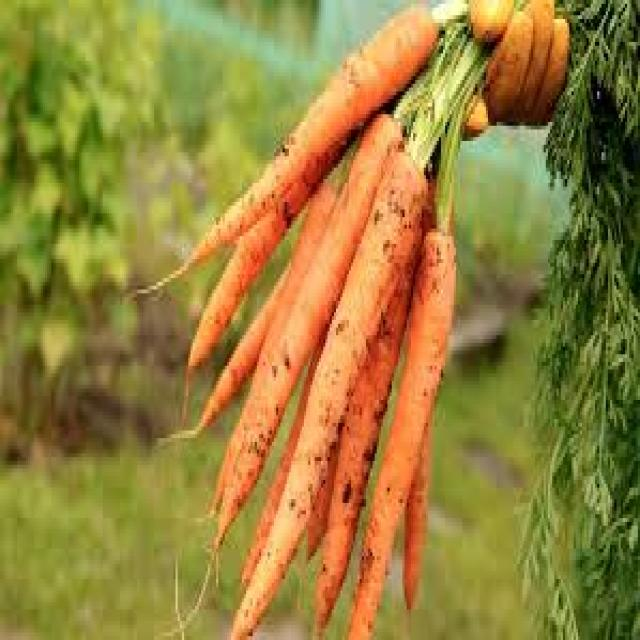organic waste: (120, 0, 443, 309), (229, 145, 426, 636), (518, 0, 638, 636), (175, 102, 388, 408), (556, 27, 638, 636), (206, 168, 340, 522), (344, 225, 454, 636), (0, 0, 113, 301), (148, 248, 289, 446), (404, 12, 482, 228), (398, 404, 426, 617), (304, 442, 336, 560)
